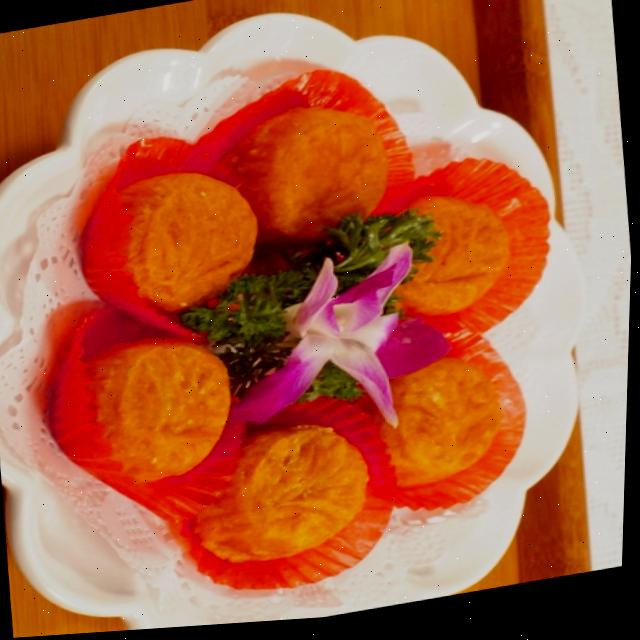炸货点心: (0, 0, 631, 640)
蛋糕甜品: (0, 0, 631, 640)
